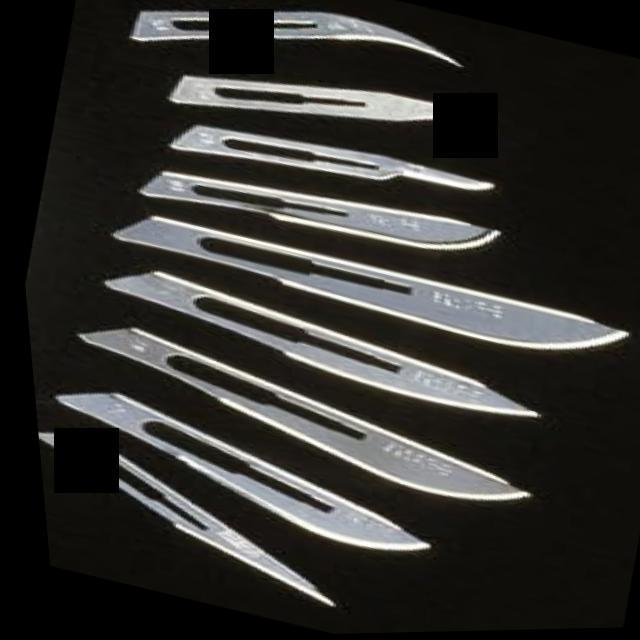Surgical blade: (45, 305, 546, 533), (76, 185, 632, 388), (64, 249, 546, 442), (26, 370, 450, 587), (29, 416, 363, 624), (120, 134, 502, 298), (156, 81, 508, 241), (105, 0, 478, 133)
